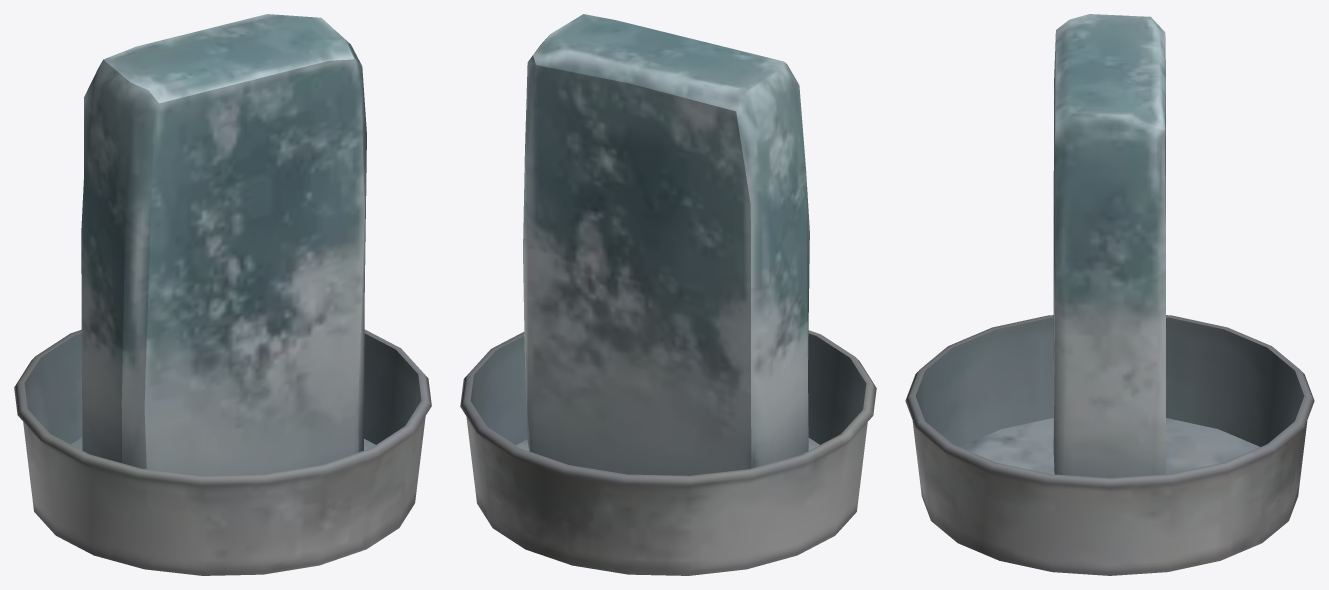
Rendered from SM_CoolerMedieval_c410c9.glb.
3 views of the same model, side by side, from view 1: azimuth 30°, elevation 25°; view 2: azimuth 150°, elevation 25°; view 3: azimuth 270°, elevation 25° (orthographic). The views are drawn at different scales.
Bounding box in the file's own units: 0.8051 × 0.9419 × 0.8051.
1 material, 1 textured.
